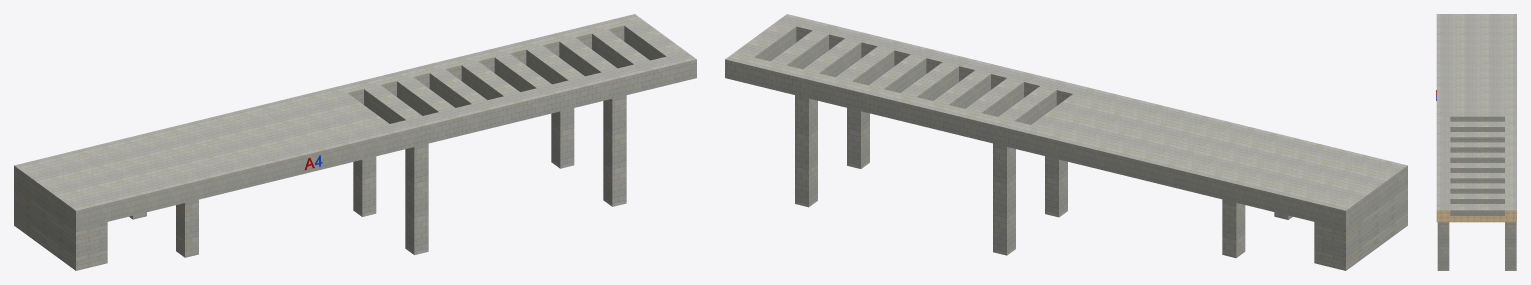
Rendered from A4_TianPeng.FBX.
3 renders of one model, left to right at view 1: azimuth 30°, elevation 25°; view 2: azimuth 150°, elevation 25°; view 3: azimuth 270°, elevation 25°, orthographic. The views are drawn at different scales.
Visible parts, largest first — view 1: 对象001; view 2: 对象001; view 3: 对象001.
Part boxes in pixels (box(x1,y1,x2,y2)): 对象001: box(14, 14, 696, 270); 对象001: box(725, 14, 1407, 270); 对象001: box(1436, 14, 1516, 270).
Bounding box in the file's own units: 7634 × 1500 × 1330.
